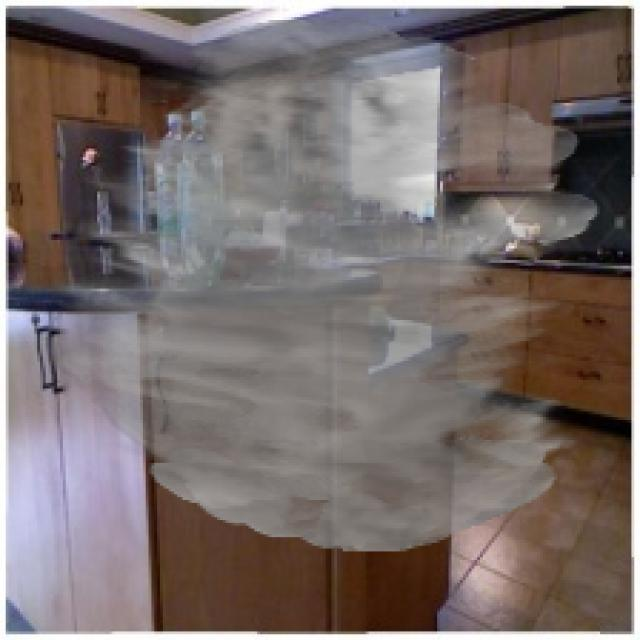smoke: (49, 17, 600, 552)
